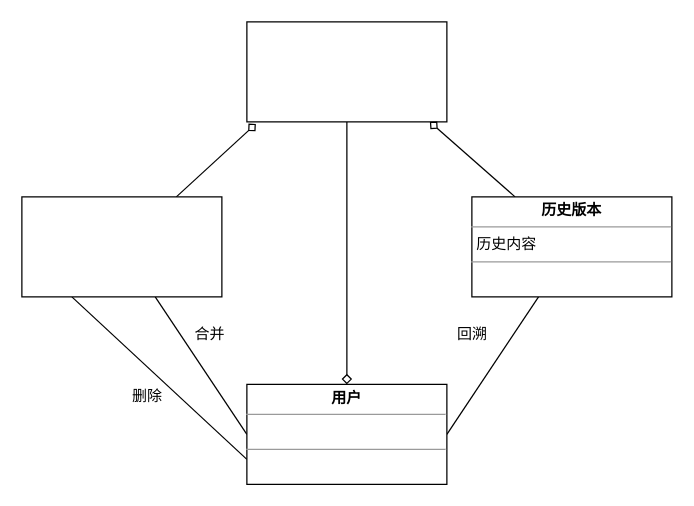
Some shapes in this 694 by 506 pixel diagram are drawn without their labels. Here are the shapes that lost their labels. From the top down, the centre of each, then its label:
(x=346, y=71): 回答仓库 当前回答内容
(x=121, y=246): 合并请求 修改内容
